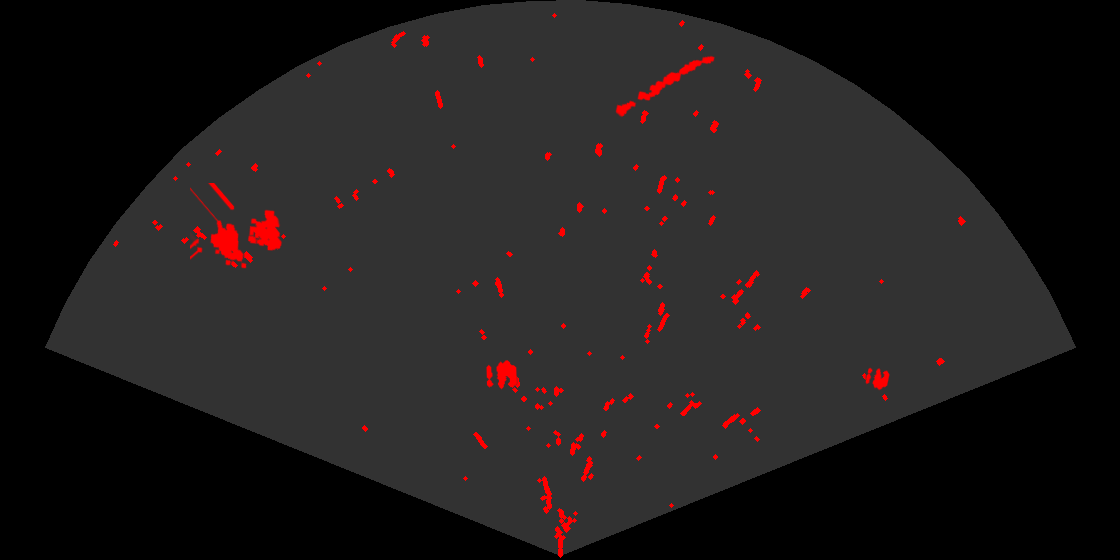ball: (485, 359, 518, 391), (864, 366, 891, 392)
cage: (190, 183, 284, 270)
chain: (614, 54, 716, 119)
